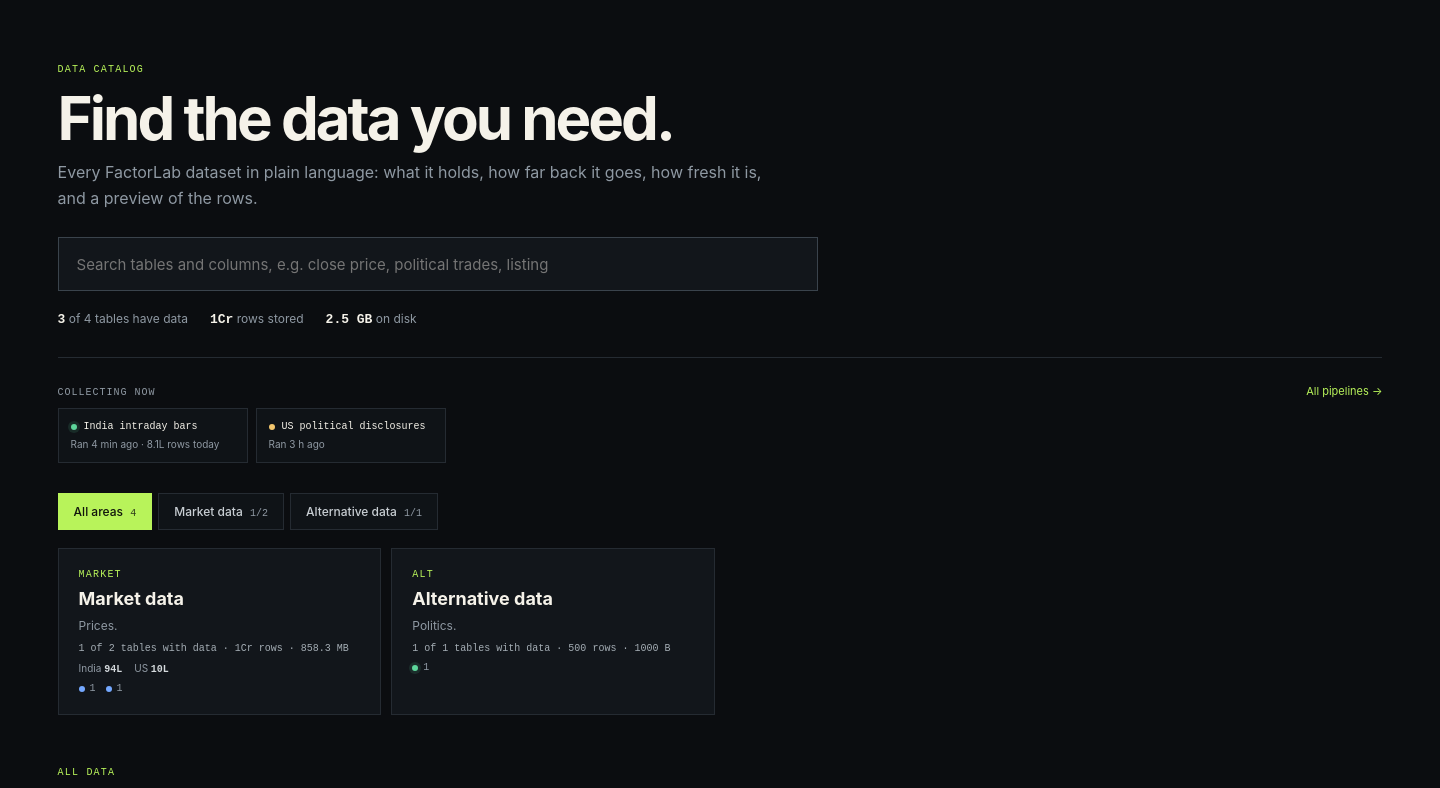
Test: data catalog home › searches column names and descriptions and filters by area through the URL
Replace the text in the search field labelled "Search tables and columns" with "ticker" at [438, 264], box [58,237,818,291]
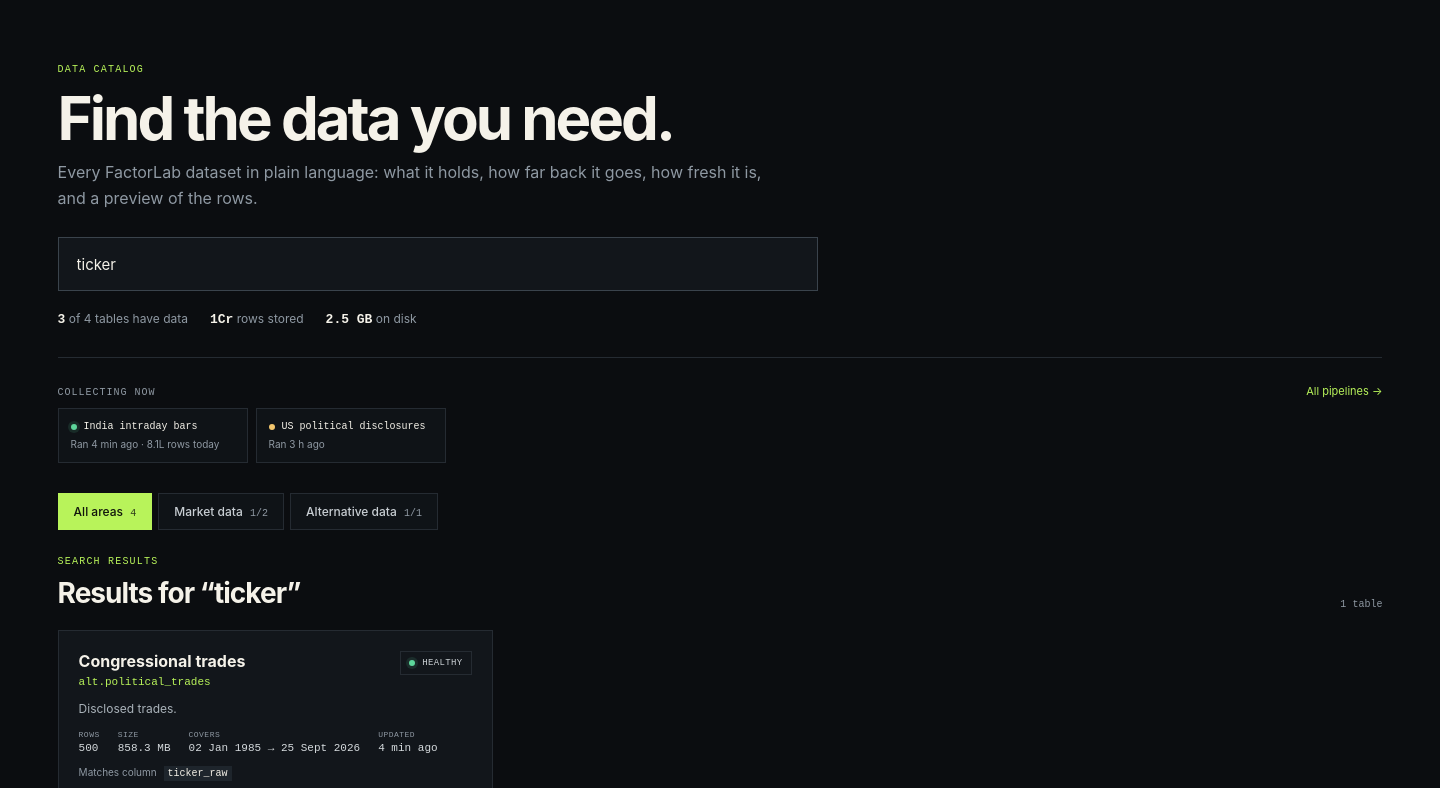
Check: the text "ticker_raw" is shown, box [164,766,232,781]
Clear the search field named "Search tables and columns" at [438, 264], box [58,237,818,291]
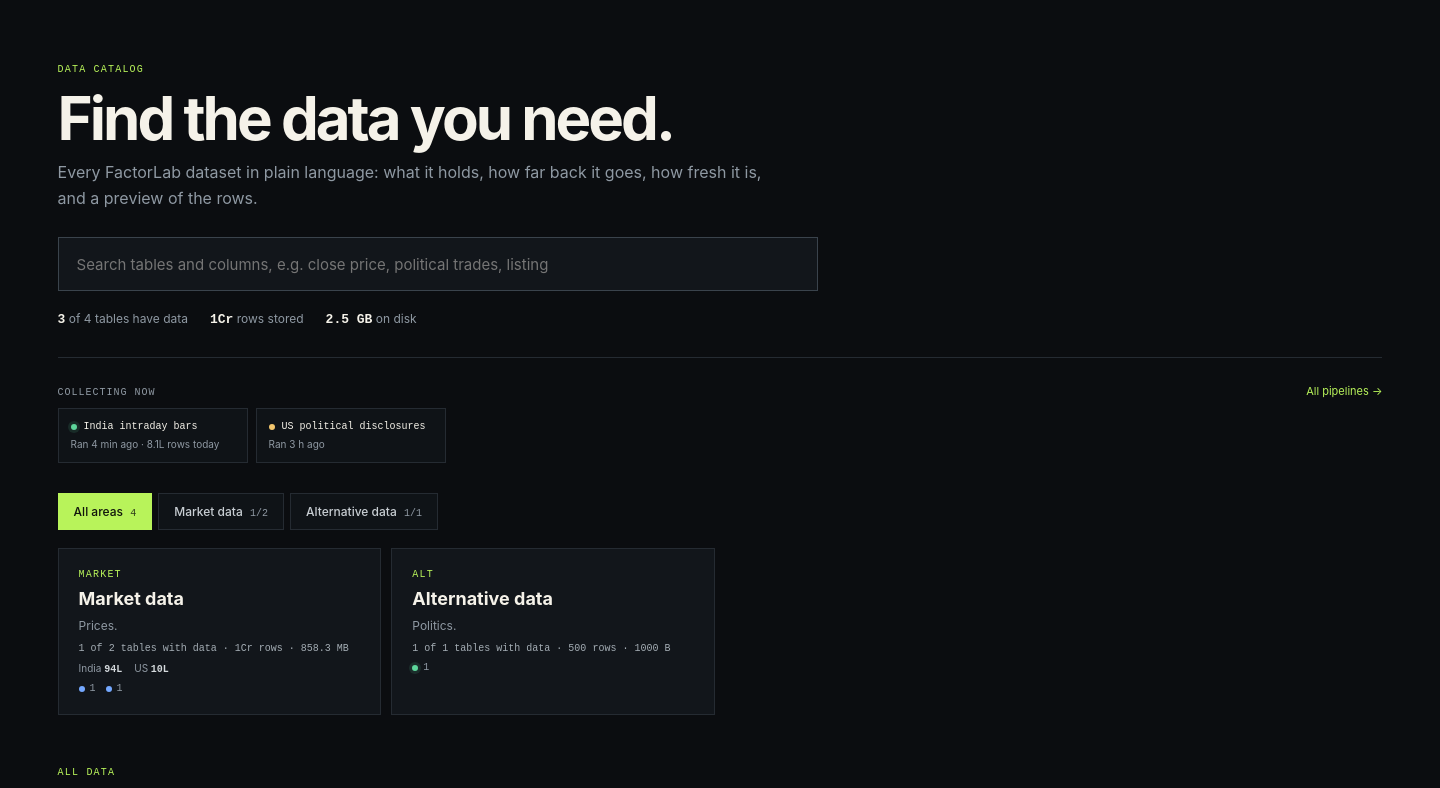
Click the button "Alternative data 1/1" at [364, 512], box [290,493,438,530]
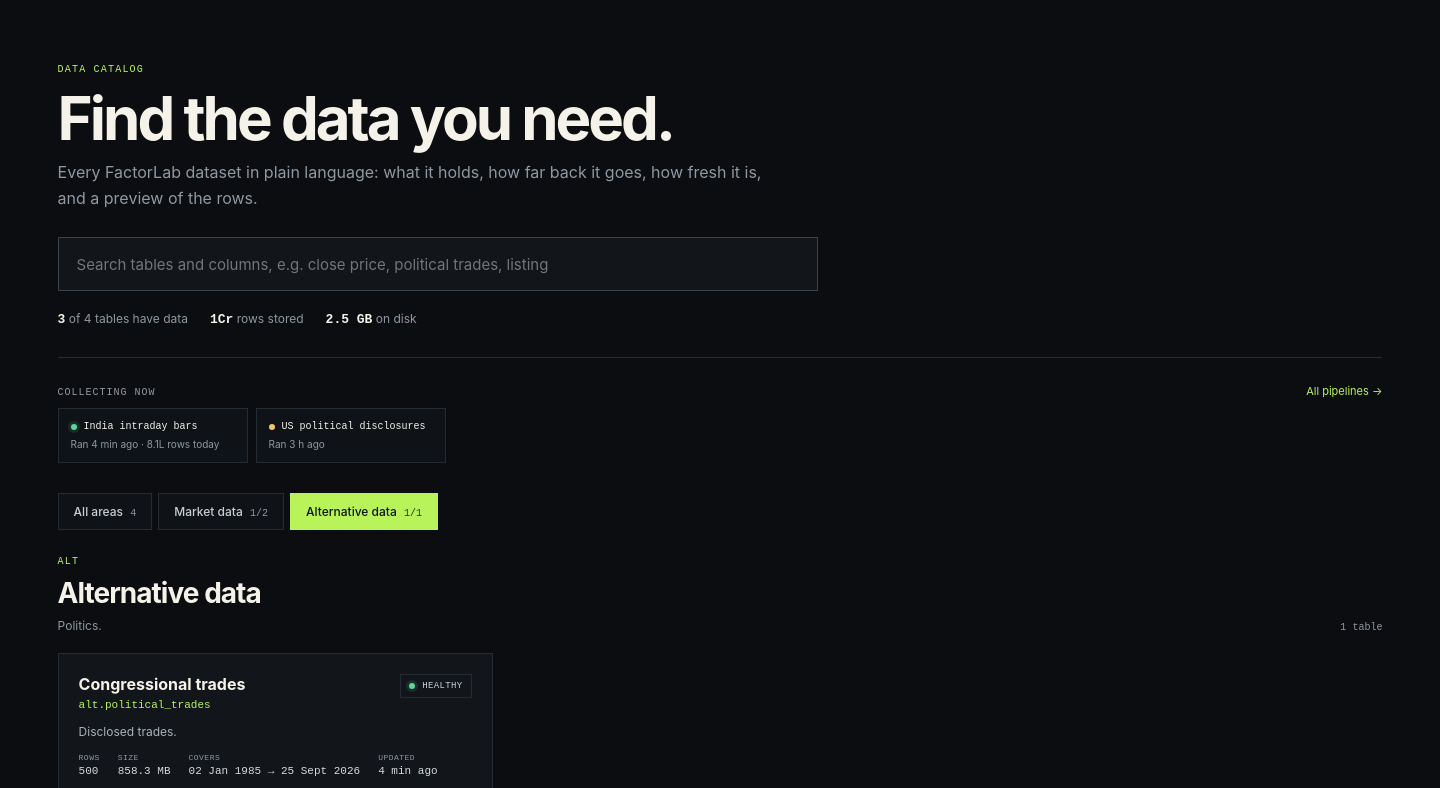
Check: the heading "Alternative data" is shown, box [58,576,261,610]
